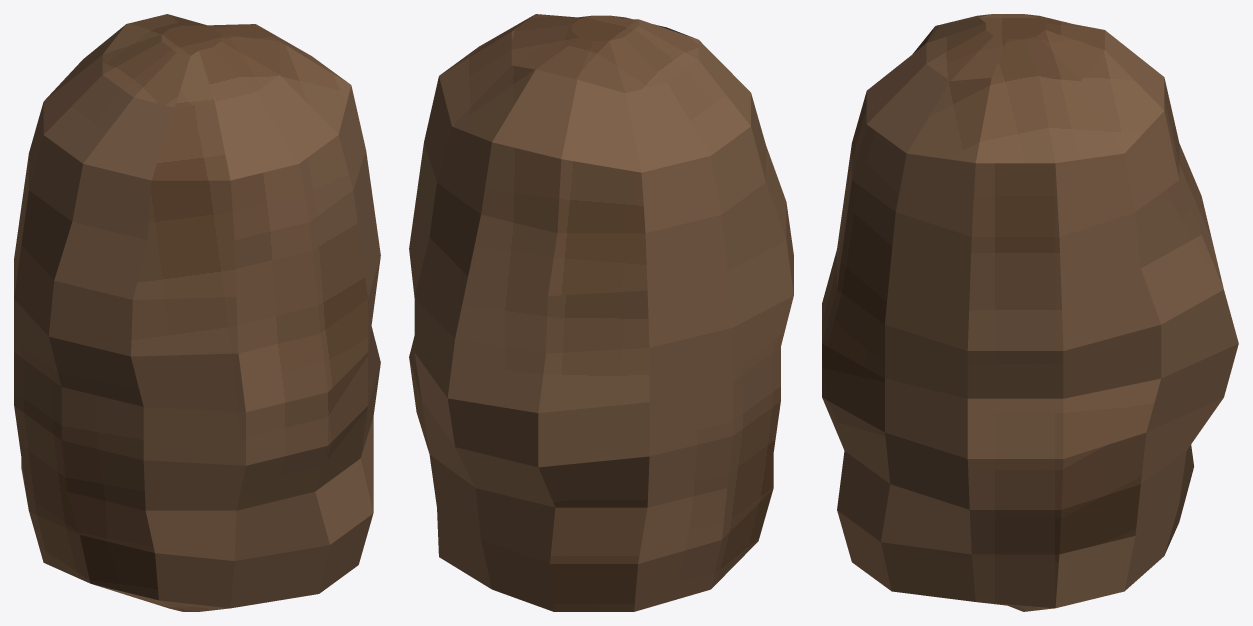
The model's file is potato.fbx.
3 renders of one model, left to right at view 1: azimuth 30°, elevation 25°; view 2: azimuth 150°, elevation 25°; view 3: azimuth 270°, elevation 25°, orthographic.
Parts seen in each view (by area): view 1: cylinder; view 2: cylinder; view 3: cylinder.
Boxes of the visible parts, <box> form: cylinder: <box>14,14,380,611</box>; cylinder: <box>409,14,793,611</box>; cylinder: <box>822,14,1238,611</box>.
Bounding box in the file's own units: 40.62 × 65.62 × 43.75.
1 material, 1 textured.
